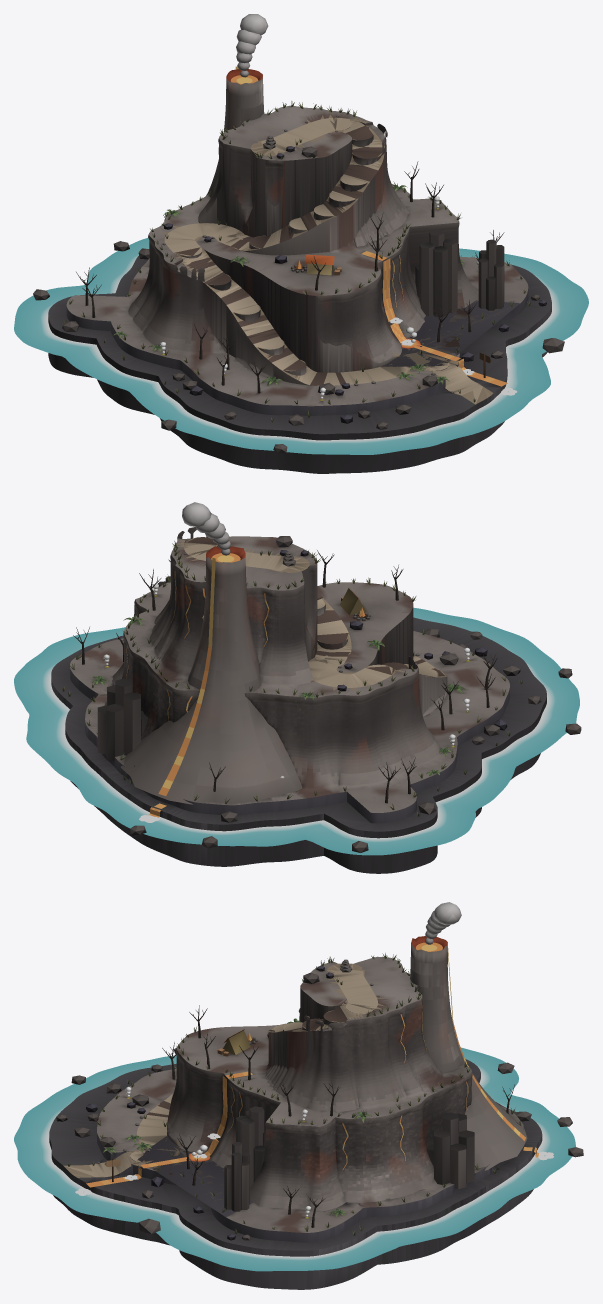
Rendered from VolcanoIsland.glb.
3 renders of one model, top to bottom at view 1: azimuth 30°, elevation 25°; view 2: azimuth 150°, elevation 25°; view 3: azimuth 270°, elevation 25°, orthographic. The views are drawn at different scales.
Parts seen in each view (by area): view 1: Lit, Unlit, Soft; view 2: Lit, Unlit, Soft; view 3: Lit, Unlit, Soft.
Part boxes in pixels (bbox=[...]): Lit: bbox=[33, 101, 564, 473]; Unlit: bbox=[14, 66, 588, 454]; Soft: bbox=[160, 14, 478, 398]; Lit: bbox=[51, 527, 581, 873]; Unlit: bbox=[14, 553, 579, 855]; Soft: bbox=[103, 502, 470, 804]; Lit: bbox=[49, 953, 583, 1289]; Unlit: bbox=[14, 942, 575, 1271]; Soft: bbox=[125, 902, 527, 1216].
Size of the model in its own units: 6.13 by 3.6 by 6.53.
